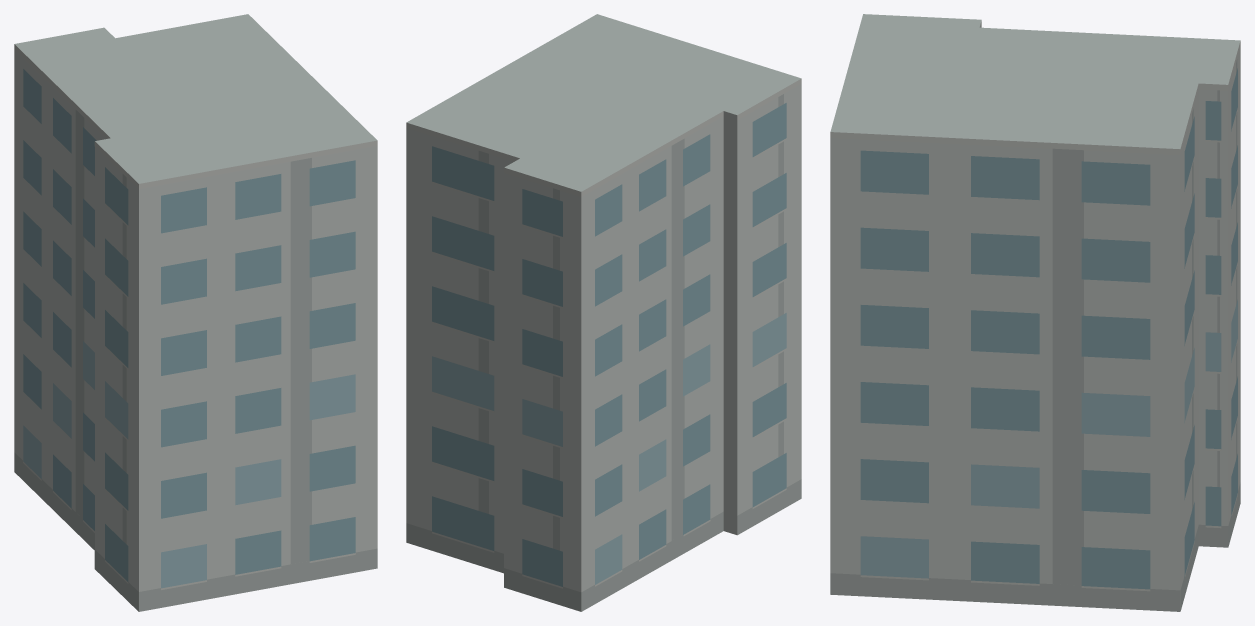
Rendered from survey-upis-33012980.glb.
3 views of the same model, side by side, from view 1: azimuth 30°, elevation 25°; view 2: azimuth 150°, elevation 25°; view 3: azimuth 270°, elevation 25° (orthographic). The views are drawn at different scales.
Visible parts, largest first — view 1: survey-upis-33012980.tmp; view 2: survey-upis-33012980.tmp; view 3: survey-upis-33012980.tmp.
Boxes of the visible parts, bbox=[...] form: survey-upis-33012980.tmp: bbox=[14, 14, 377, 611]; survey-upis-33012980.tmp: bbox=[406, 14, 801, 611]; survey-upis-33012980.tmp: bbox=[830, 14, 1240, 611].
Bounding box in the file's own units: 12.19 × 19.45 × 15.64.
